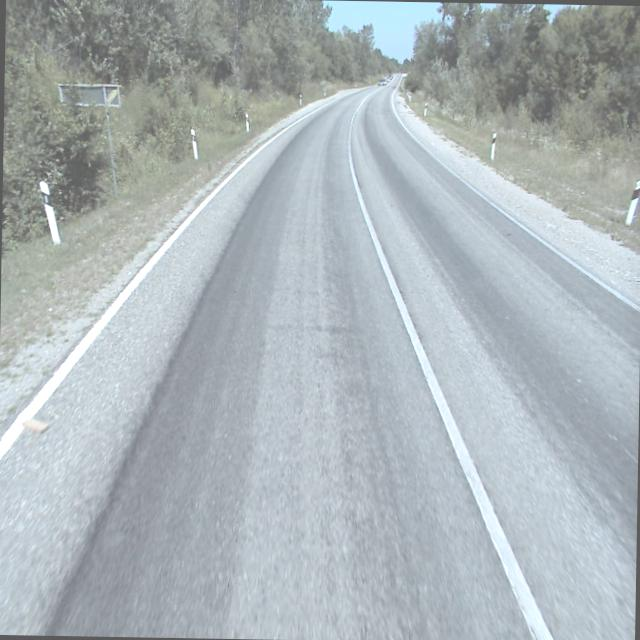road: (0, 76, 640, 640)
